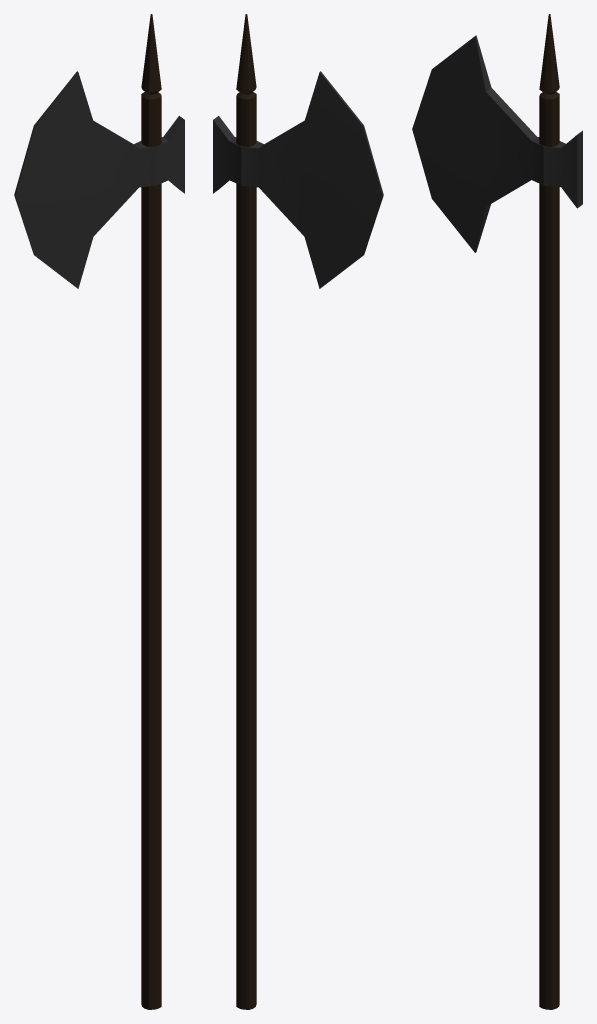
Rendered from SD2wr_axe_drf.fbx.
3 views of the same model, side by side, from view 1: azimuth 30°, elevation 25°; view 2: azimuth 150°, elevation 25°; view 3: azimuth 330°, elevation 25° (orthographic).
Parts seen in each view (by area): view 1: SD2wr_axe_drf; view 2: SD2wr_axe_drf; view 3: SD2wr_axe_drf.
Boxes of the visible parts, left/top/right/bottom form: SD2wr_axe_drf: left=14, top=14, right=184, bottom=1009; SD2wr_axe_drf: left=213, top=14, right=383, bottom=1009; SD2wr_axe_drf: left=412, top=14, right=582, bottom=1009.
Bounding box in the file's own units: 39.5 × 4.49 × 224.
